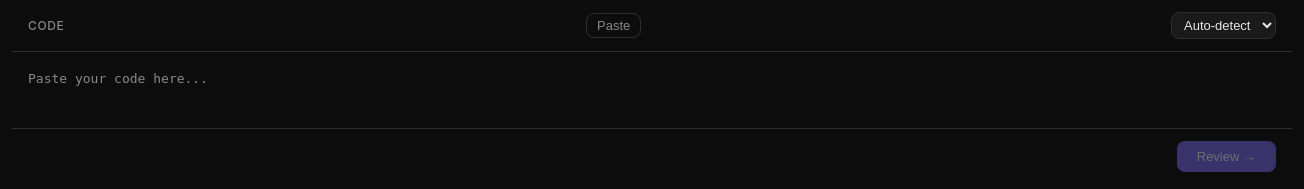
Test: CodeInput › Review button is enabled when code is present
Type "let x = 1;" into the text box with placeholder "Paste your code here..." at (652, 90), box [12, 52, 1292, 128]
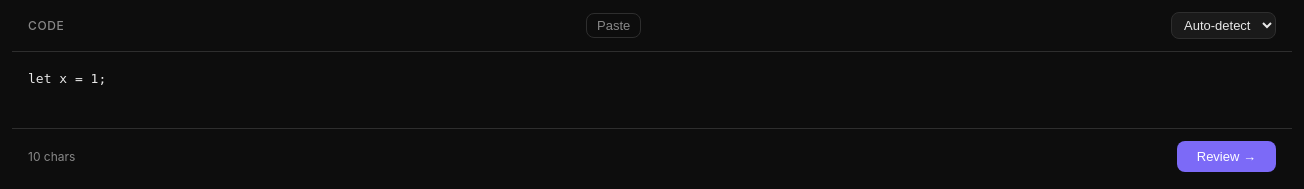
Expected: the button "Review →" is enabled, [1177, 141, 1276, 172]
